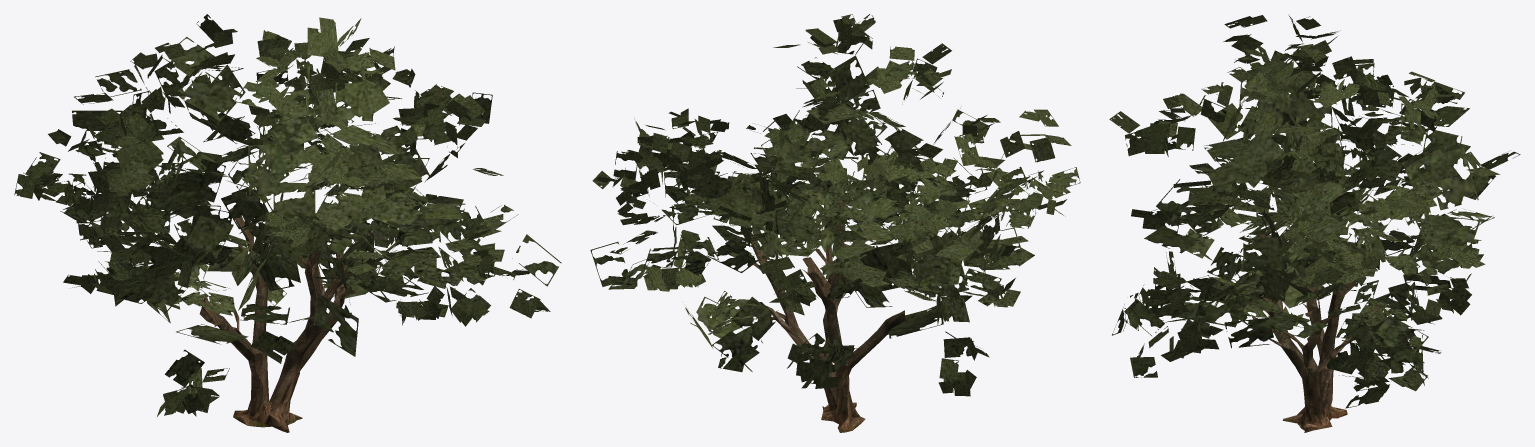
Rendered from tree-broadleaf.glb.
3 renders of one model, left to right at view 1: azimuth 30°, elevation 25°; view 2: azimuth 150°, elevation 25°; view 3: azimuth 270°, elevation 25°, orthographic. The views are drawn at different scales.
Parts seen in each view (by area): view 1: tree-broadleaf_LOD1; view 2: tree-broadleaf_LOD1; view 3: tree-broadleaf_LOD1.
Part boxes in pixels (x1,y1,x2,y2): tree-broadleaf_LOD1: (14, 14, 561, 432); tree-broadleaf_LOD1: (590, 14, 1080, 432); tree-broadleaf_LOD1: (1109, 14, 1520, 432).
Size of the model in its own units: 24.07 by 19.65 by 19.38.
Materials: 2 (2 with a texture image).
